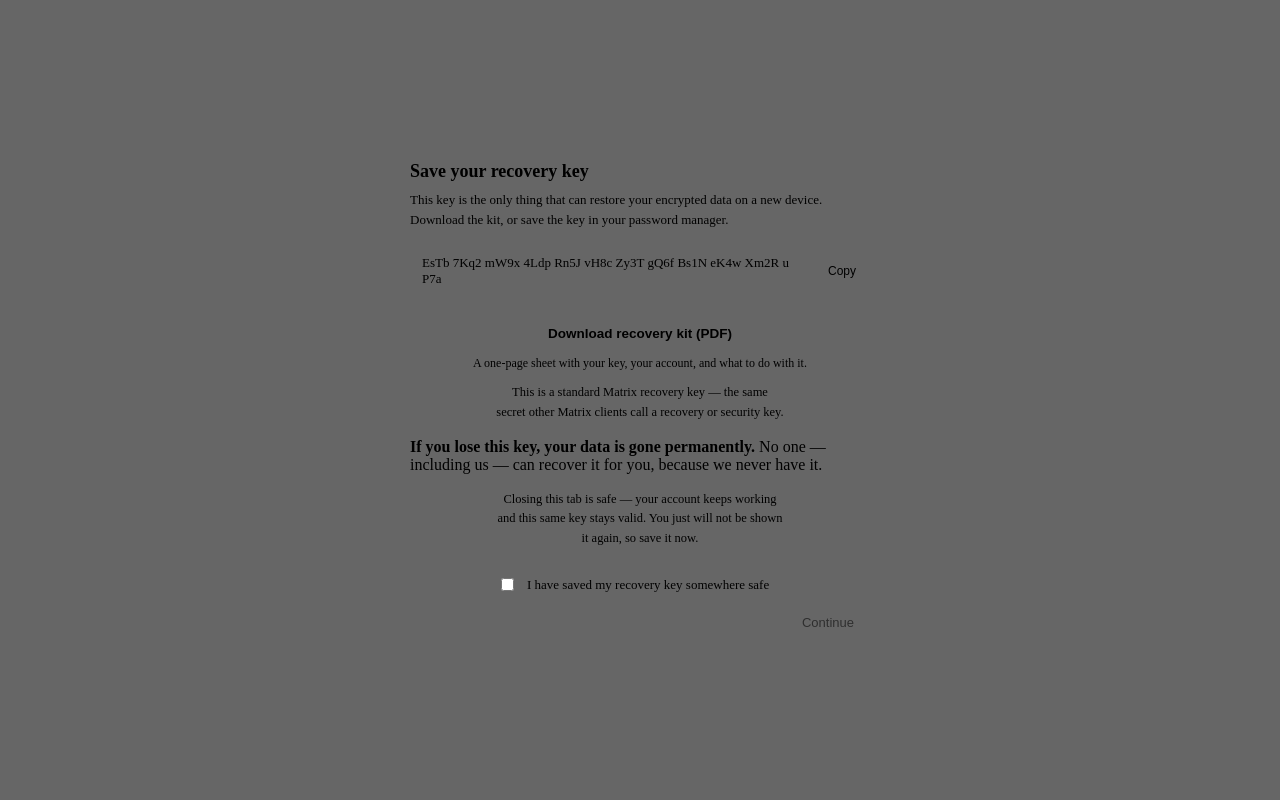
VerifyDeviceScreen › prove the key was saved › hides the key, so this tests the saved copy and not the screen
The width and height of the screenshot is (1280, 800).
Click the checkbox.
click(508, 585)  # box left=501, top=578, right=514, bottom=591
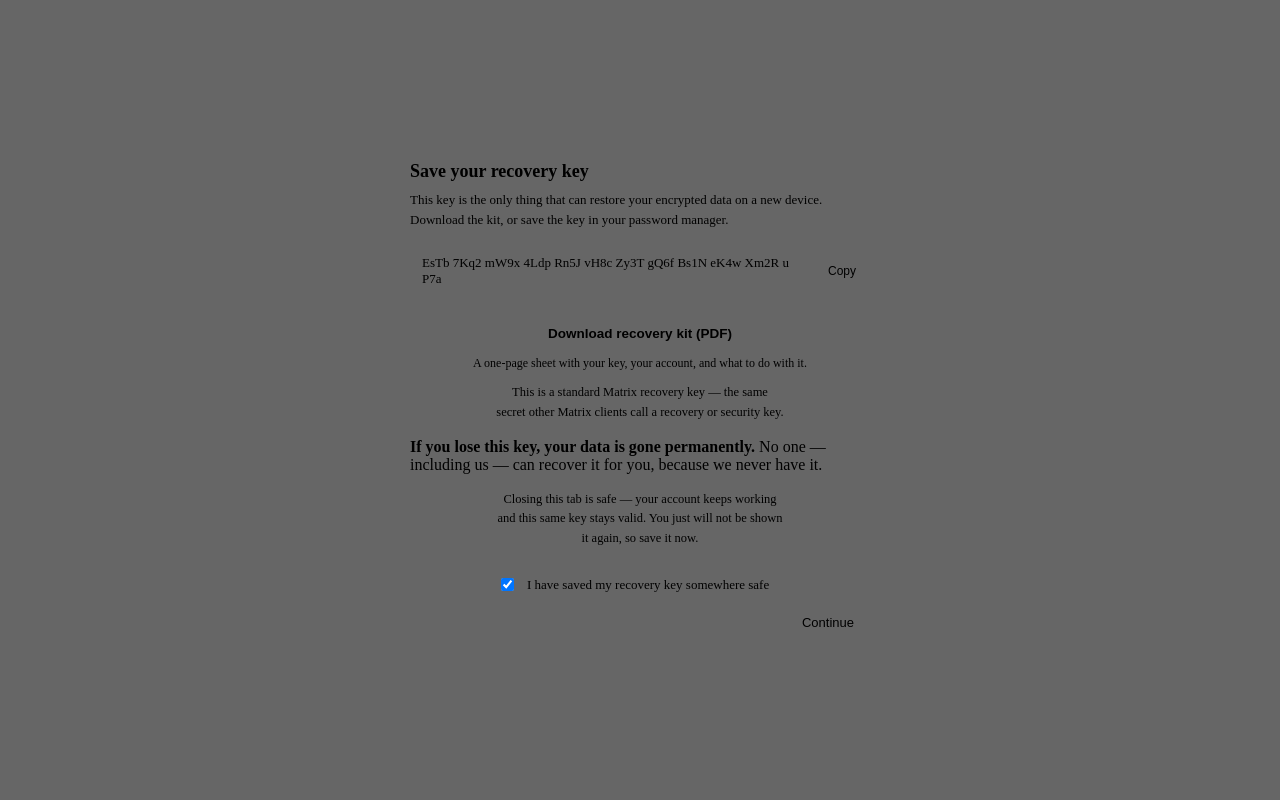
Click the button "Continue".
click(828, 622)  # box left=786, top=606, right=870, bottom=639
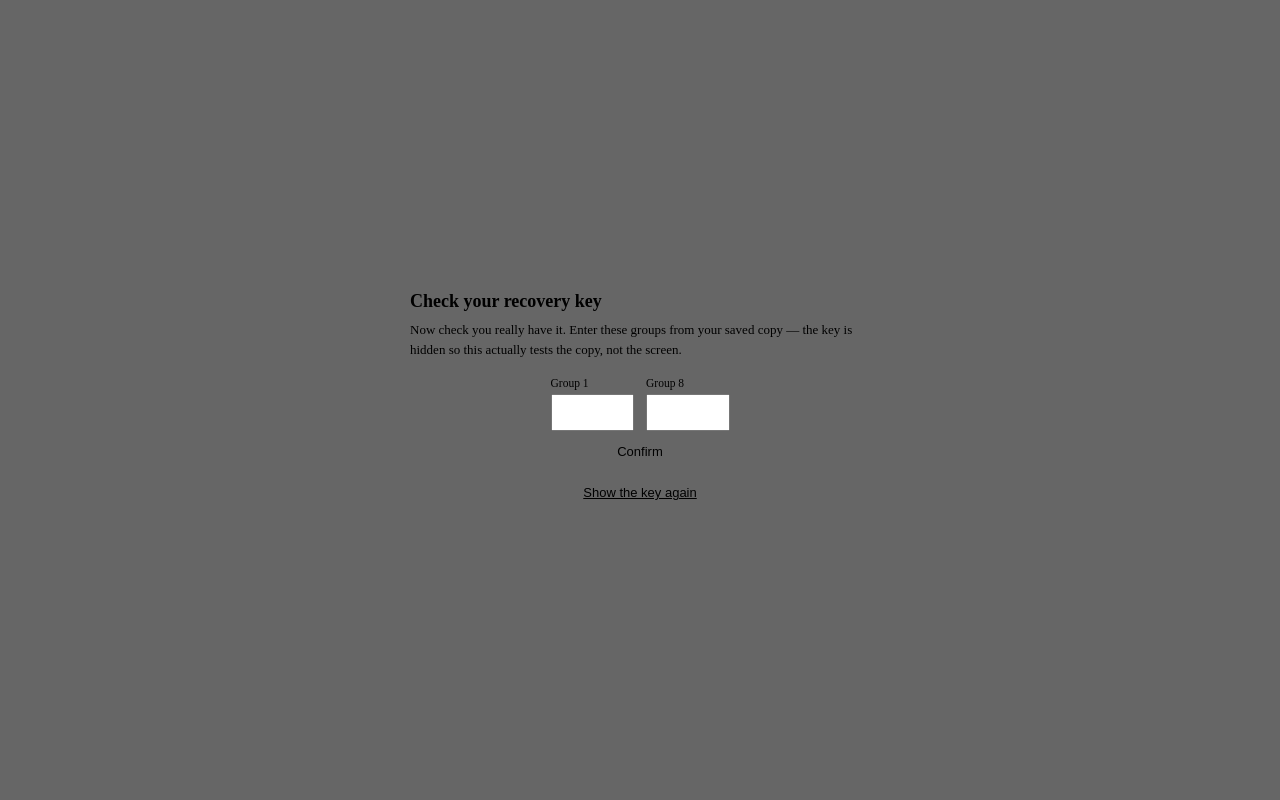
Expected: the text "EsTb 7Kq2 mW9x 4Ldp Rn5J vH8c Zy3T gQ6f Bs1N eK4w Xm2R uP7a" is gone
